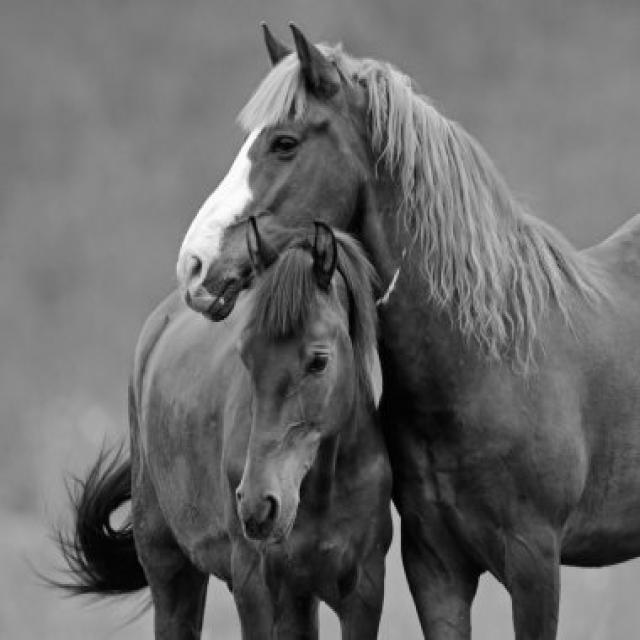Animal: (177, 27, 640, 638), (62, 222, 392, 638)
